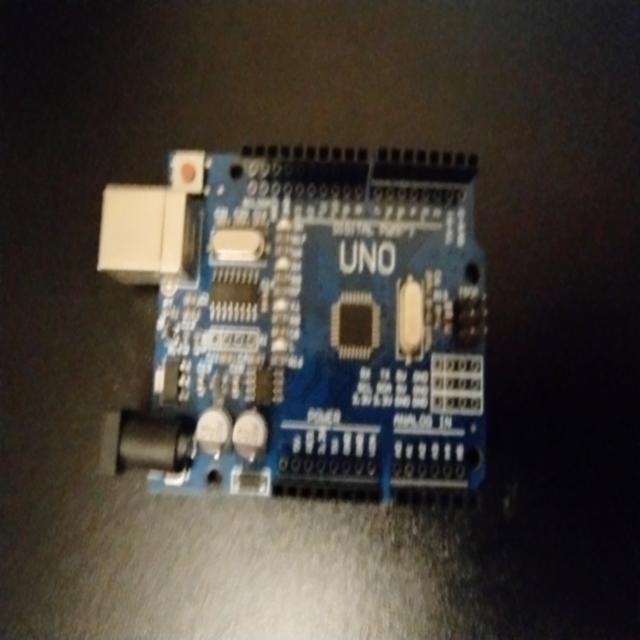arduino: (128, 132, 496, 514)
